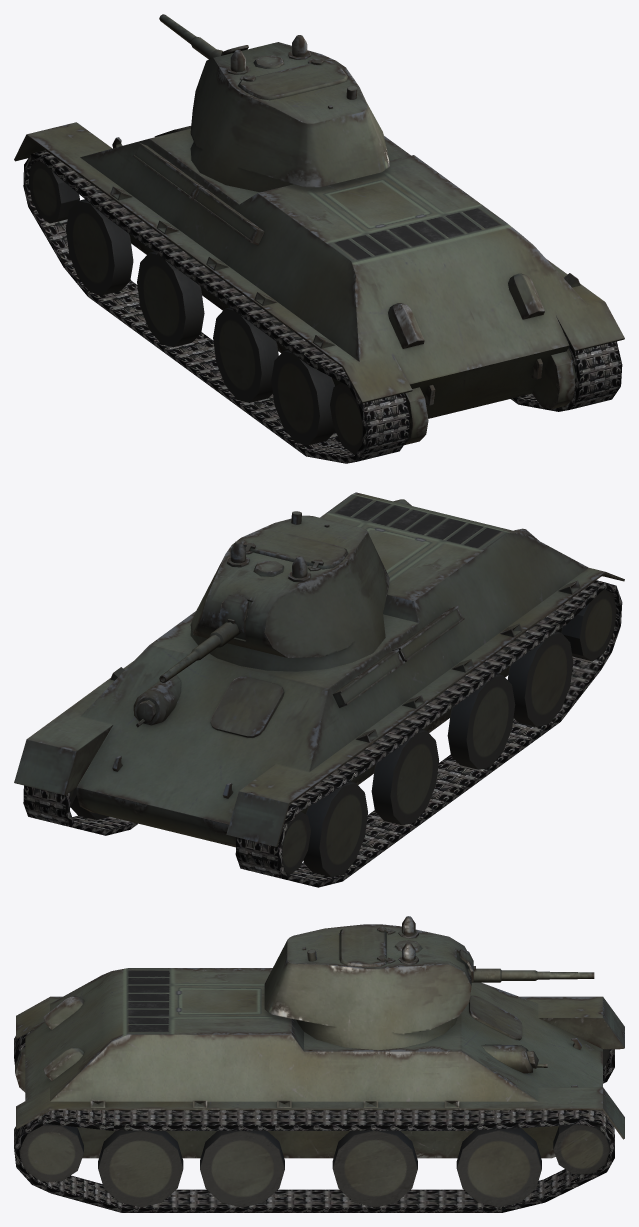
3 renders of one model, top to bottom at view 1: azimuth 30°, elevation 25°; view 2: azimuth 150°, elevation 25°; view 3: azimuth 270°, elevation 25°, orthographic. The views are drawn at different scales.
Visible parts, largest first — view 1: A-20 Hull, A-20 Turret, A-20 Track, A-20 Barrel; view 2: A-20 Hull, A-20 Turret, A-20 Track, A-20 Barrel; view 3: A-20 Hull, A-20 Track, A-20 Turret, A-20 Barrel.
Part boxes in pixels (x1,y1,x2,y2): A-20 Hull: (14,122,624,454); A-20 Turret: (190,35,389,192); A-20 Track: (23,150,622,463); A-20 Barrel: (159,14,248,59); A-20 Hull: (14,492,624,877); A-20 Turret: (190,511,389,671); A-20 Track: (23,580,622,887); A-20 Barrel: (159,595,248,682); A-20 Hull: (15,968,624,1207); A-20 Track: (14,1028,614,1212); A-20 Turret: (264,916,471,1050); A-20 Barrel: (459,949,594,982).
Size of the model in its own units: 2.5 by 2.38 by 5.77.
